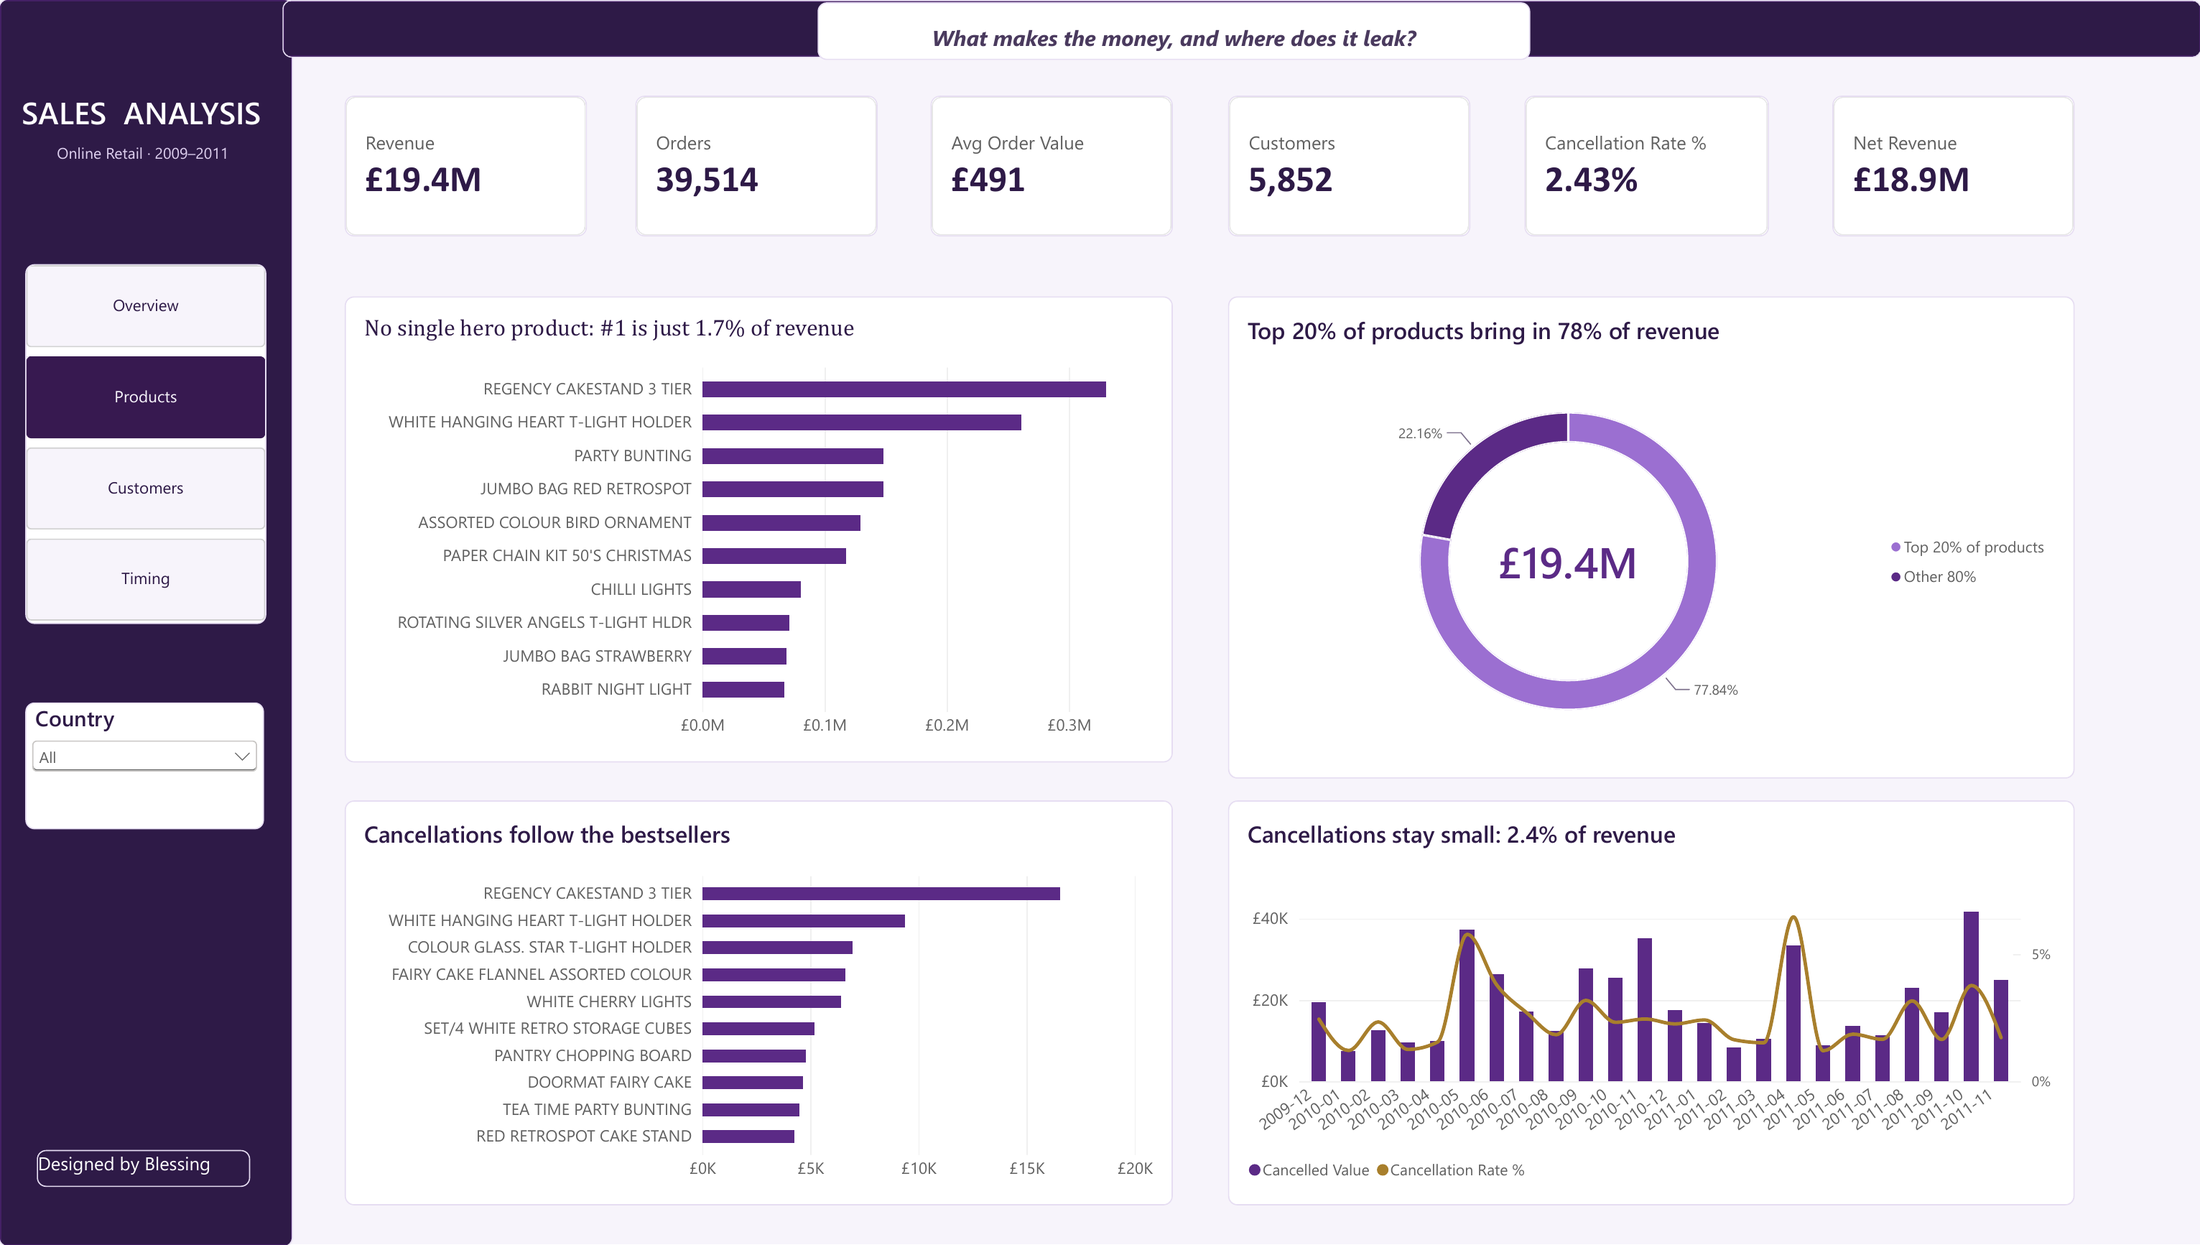

This screenshot's page, from the dashboard's own definition file:
{"tool":"powerbi","page":{"name":"Products","canvas":[1920,1080],"ordinal":1},"visuals":[{"type":"shape","box":[10,0,255,1081.7],"z":0},{"type":"pageNavigator","box":[33.3,230,208.3,311.7],"z":1000},{"type":"textbox","box":[25,80,218.3,45],"z":2000},{"type":"textbox","box":[36.7,125,196.7,26.7],"z":3000},{"type":"cardVisual","fields":{"Data":["_Measures.Revenue"]},"box":[310.4,83.6,210,122.9],"z":4000},{"type":"cardVisual","fields":{"Data":["_Measures.Orders"]},"box":[561.8,83.6,210,122.9],"z":5000},{"type":"cardVisual","fields":{"Data":["_Measures.Avg Order Value"]},"box":[817.5,83.6,210,122.9],"z":6000},{"type":"cardVisual","fields":{"Data":["_Measures.Customers"]},"box":[1076.1,83.6,210,122.9],"z":7000},{"type":"cardVisual","fields":{"Data":["_Measures.Cancellation Rate %"]},"box":[1333.2,83.6,211.4,122.9],"z":8000},{"type":"cardVisual","fields":{"Data":["_Measures.Net Revenue"]},"box":[1600.4,83.6,210,122.9],"z":9000},{"type":"clusteredBarChart","title":"No single hero product: #1 is just 1.7% of revenue","fields":{"Category":["Sales.description"],"Y":["_Measures.Revenue"]},"box":[310.4,257.9,717.1,404.3],"z":10000},{"type":"donutChart","title":"Top 20% of products bring in 78% of revenue","fields":{"Category":["Products.Product Group"],"Y":["Sum(Products.Product Revenue)"]},"box":[1076.1,257.9,734.3,418.6],"z":11000},{"type":"lineClusteredColumnComboChart","title":"Cancellations stay small: 2.4% of revenue","fields":{"Category":["Calendar.Year-Month"],"Y":["_Measures.Cancelled Value"],"Y2":["_Measures.Cancellation Rate %"]},"box":[1075.9,694.6,734,351],"z":12000},{"type":"clusteredBarChart","title":"Cancellations follow the bestsellers","fields":{"Category":["Cancellations.description"],"Y":["_Measures.Cancelled Value"]},"box":[310.4,695,717.1,351.4],"z":13000},{"type":"slicer","fields":{"Values":["Sales.country"]},"box":[32.9,610,207.1,110],"z":14000},{"type":"shape","box":[255.7,1.4,1664.3,50],"z":15000},{"type":"textbox","box":[42.5,997.5,185,32.5],"z":16000},{"type":"textbox","box":[720,2.5,617.5,50],"z":17000}]}

Visuals, with their boxes in screenshot pixels (x1, y1, x2, y2), scaled from the page's 1920x1080 canvas onto the 2200x1245 screenshot:
shape: {"x1": 11, "y1": 0, "x2": 304, "y2": 1244}
pageNavigator: {"x1": 38, "y1": 265, "x2": 277, "y2": 624}
textbox: {"x1": 29, "y1": 92, "x2": 279, "y2": 144}
textbox: {"x1": 42, "y1": 144, "x2": 267, "y2": 175}
cardVisual - _Measures.Revenue: {"x1": 356, "y1": 96, "x2": 596, "y2": 238}
cardVisual - _Measures.Orders: {"x1": 644, "y1": 96, "x2": 884, "y2": 238}
cardVisual - _Measures.Avg Order Value: {"x1": 937, "y1": 96, "x2": 1177, "y2": 238}
cardVisual - _Measures.Customers: {"x1": 1233, "y1": 96, "x2": 1474, "y2": 238}
cardVisual - _Measures.Cancellation Rate %: {"x1": 1528, "y1": 96, "x2": 1770, "y2": 238}
cardVisual - _Measures.Net Revenue: {"x1": 1834, "y1": 96, "x2": 2074, "y2": 238}
"No single hero product: #1 is just 1.7% of revenue" clusteredBarChart: {"x1": 356, "y1": 297, "x2": 1177, "y2": 763}
"Top 20% of products bring in 78% of revenue" donutChart: {"x1": 1233, "y1": 297, "x2": 2074, "y2": 780}
"Cancellations stay small: 2.4% of revenue" lineClusteredColumnComboChart: {"x1": 1233, "y1": 801, "x2": 2074, "y2": 1205}
"Cancellations follow the bestsellers" clusteredBarChart: {"x1": 356, "y1": 801, "x2": 1177, "y2": 1206}
slicer - Sales.country: {"x1": 38, "y1": 703, "x2": 275, "y2": 830}
shape: {"x1": 293, "y1": 2, "x2": 2199, "y2": 59}
textbox: {"x1": 49, "y1": 1150, "x2": 261, "y2": 1187}
textbox: {"x1": 825, "y1": 3, "x2": 1533, "y2": 61}
